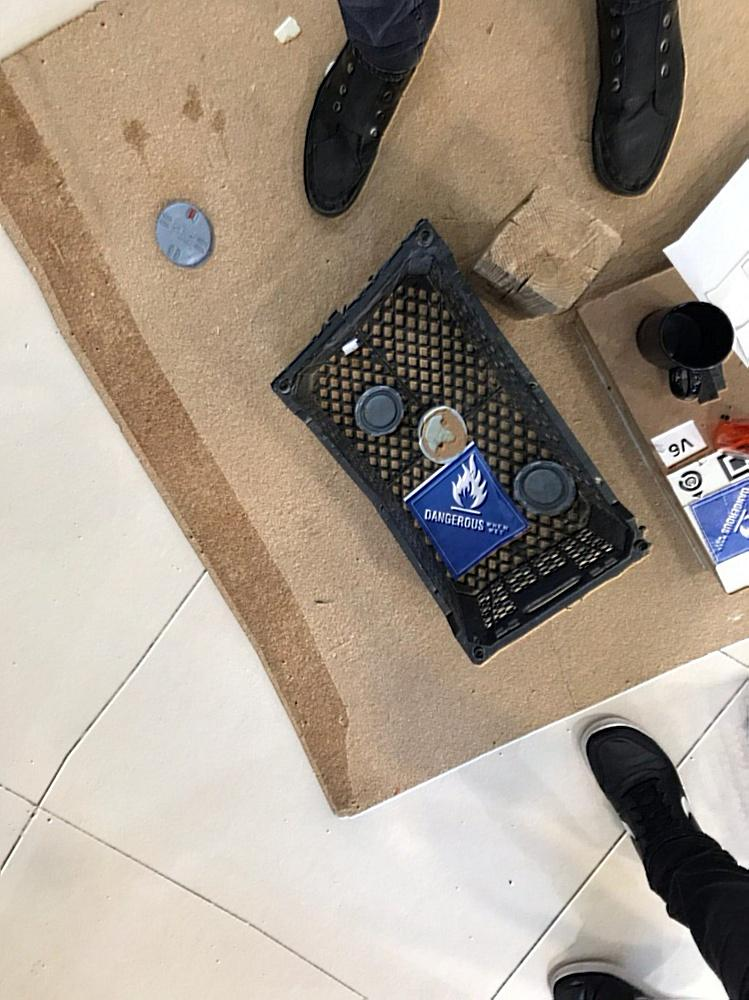dangerous-when-wet: (409, 448, 523, 580), (686, 481, 749, 573)
